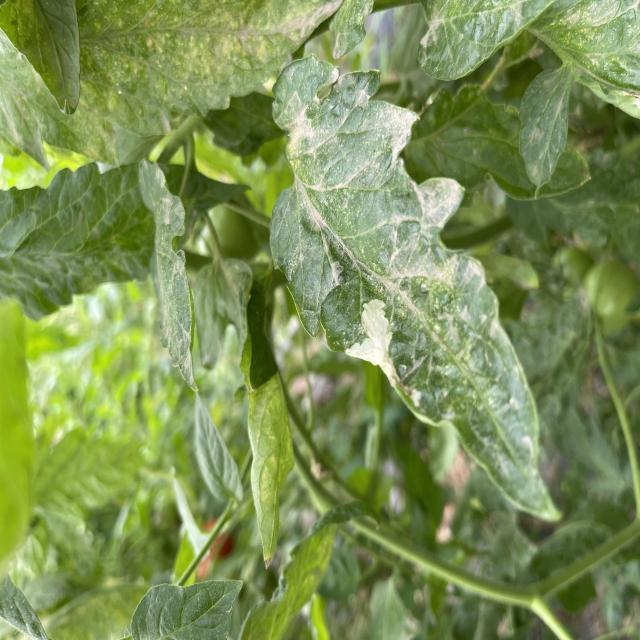Tuta absoluta: (341, 295, 423, 385)
